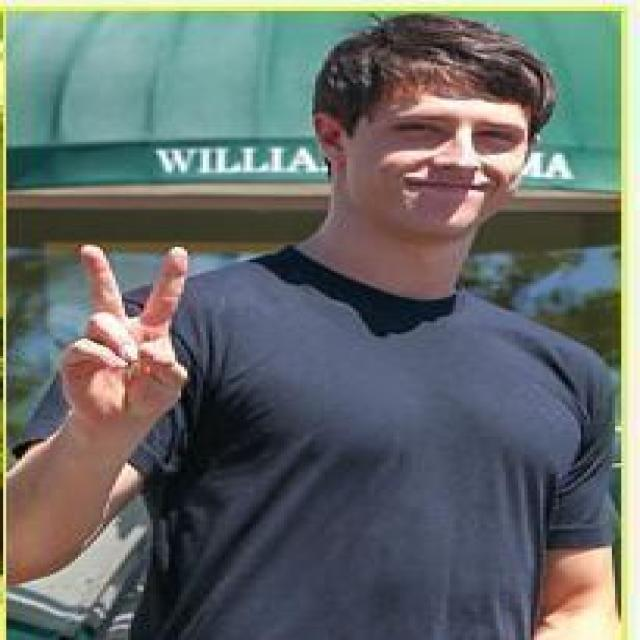0_rostro_limpio: (317, 20, 539, 240)
